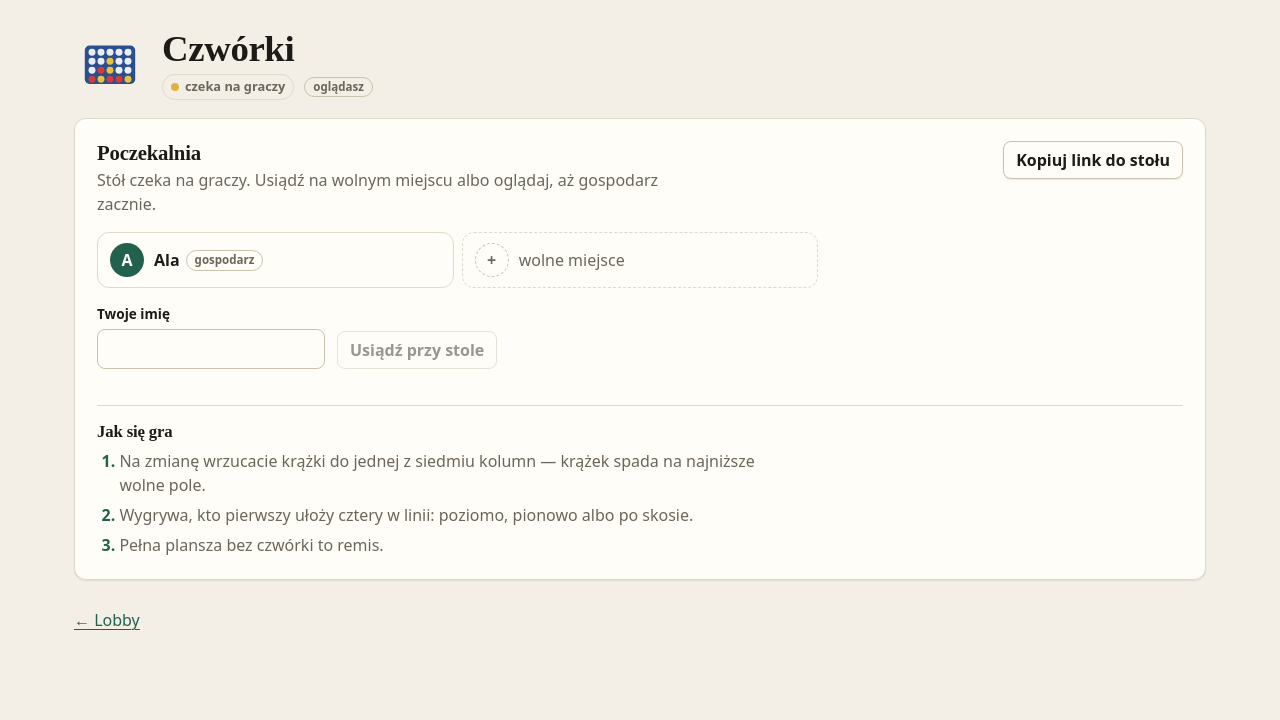
Test: a table that no longer exists › stops at a join refused because the room is gone, without watching again
Type "Ola" into the field labelled "Twoje imię" at (211, 349), box x1=97 y1=329 x2=325 y2=369
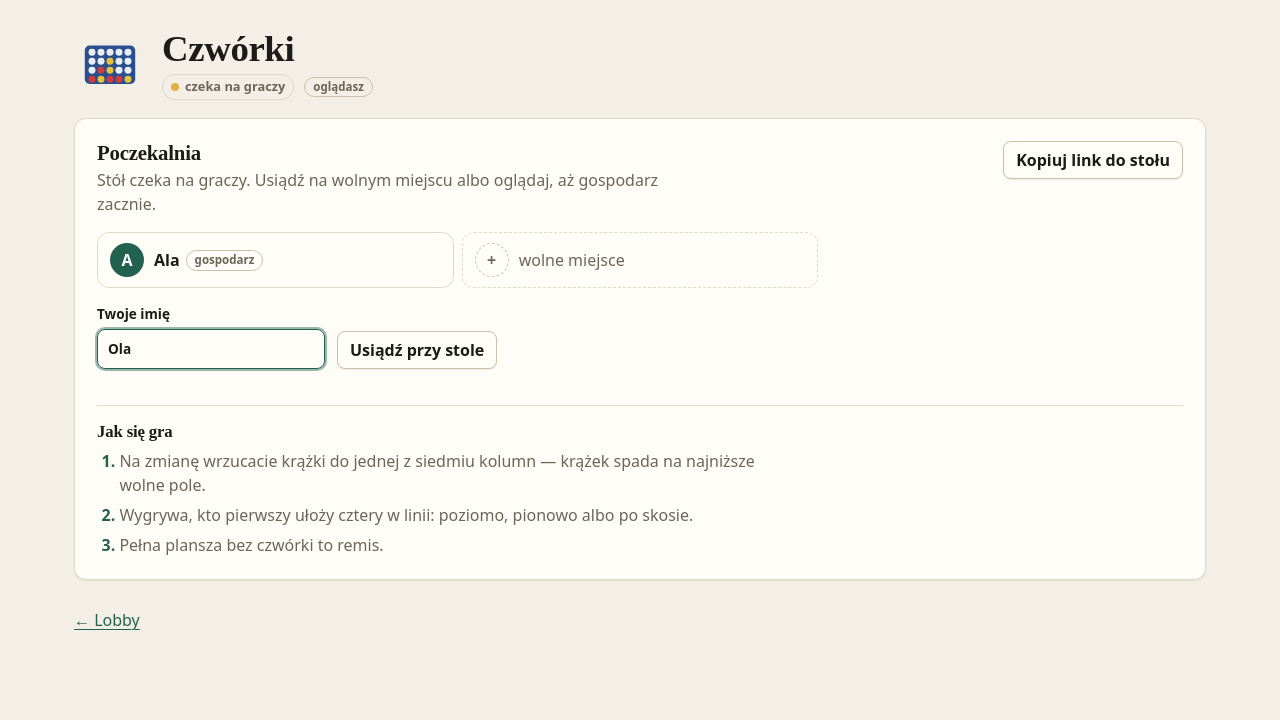
Click the button "Usiądź przy stole" at (417, 350), box x1=337 y1=331 x2=497 y2=369
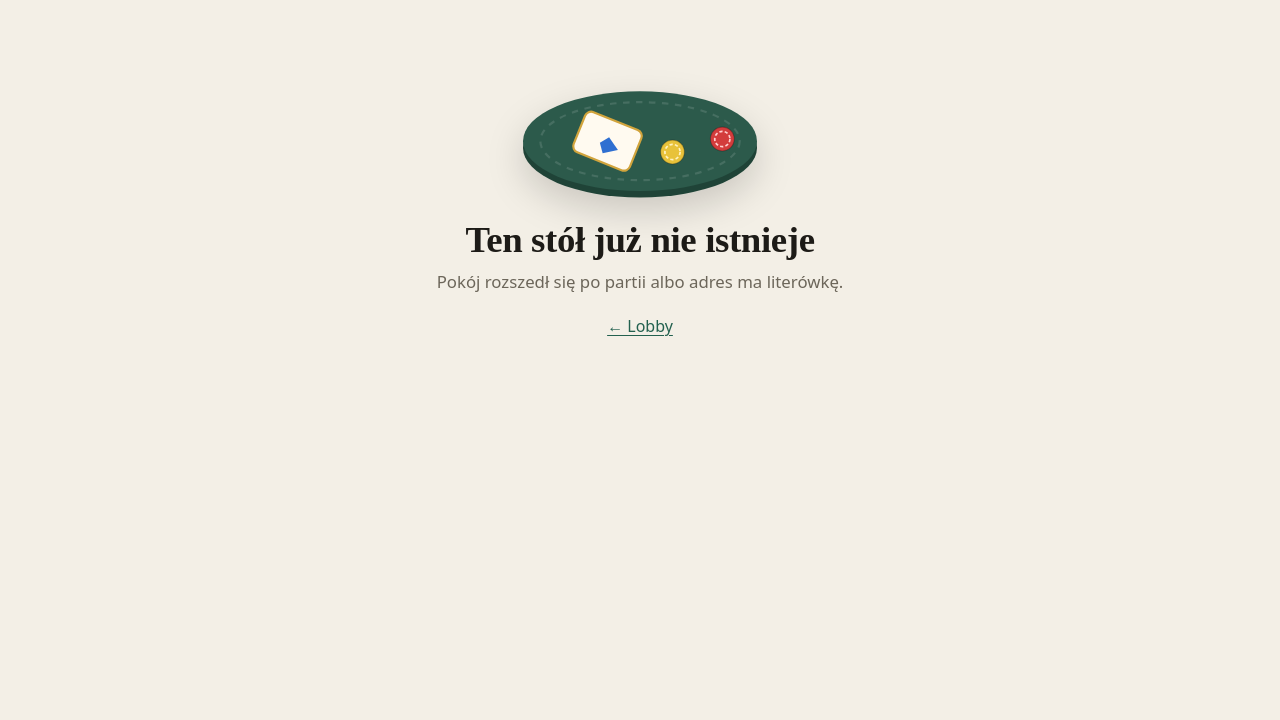
Check: the heading "Ten stół już nie istnieje" is shown, box x1=465 y1=218 x2=815 y2=260
